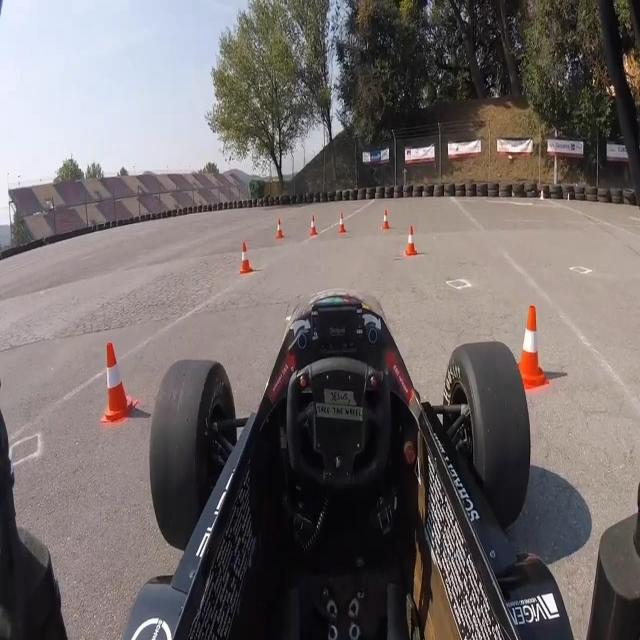orange_cone: (99, 343, 138, 426), (511, 304, 548, 389), (238, 240, 254, 275), (403, 223, 418, 257), (274, 216, 285, 240), (308, 212, 318, 238), (381, 207, 390, 231), (338, 210, 346, 233)
